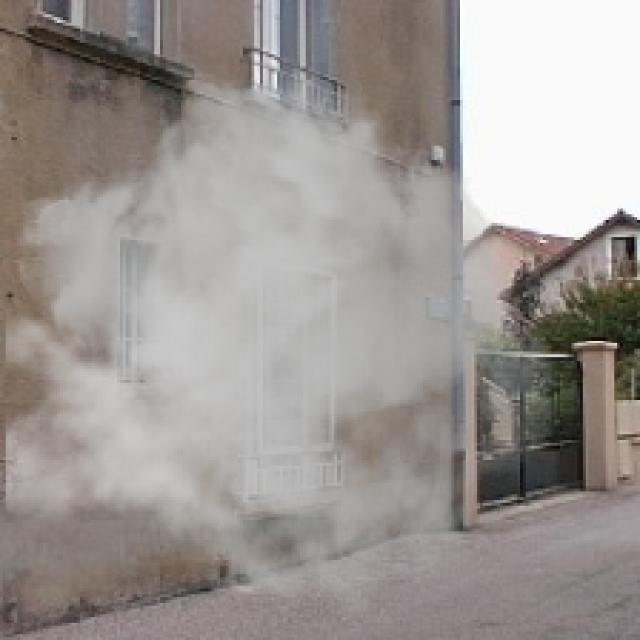Smoke: (6, 60, 560, 620)
